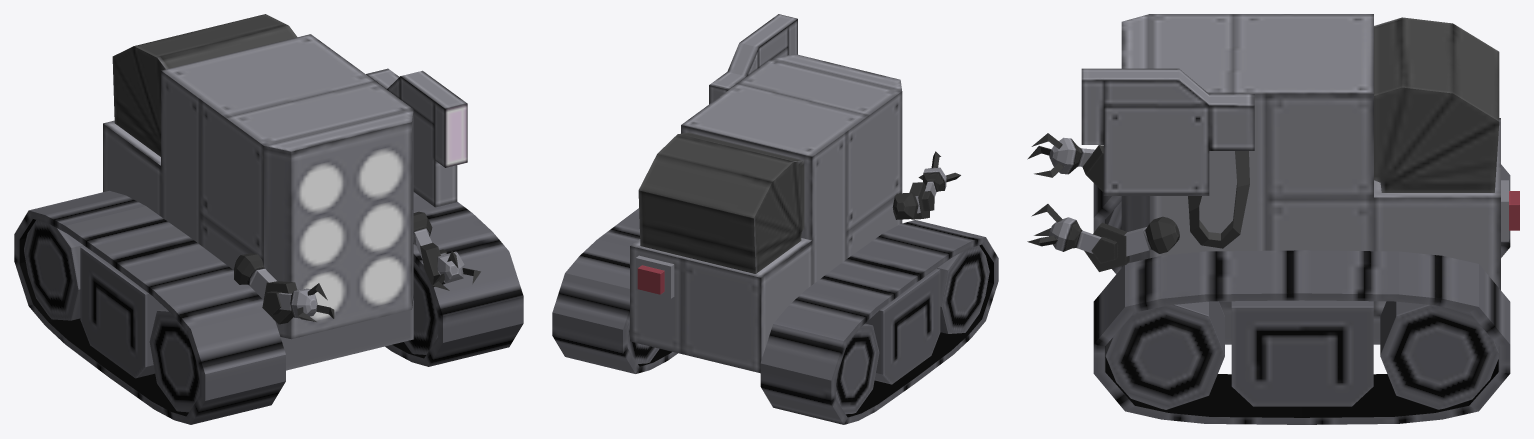
File: Player.fbx
3 views of the same model, side by side, from view 1: azimuth 30°, elevation 25°; view 2: azimuth 150°, elevation 25°; view 3: azimuth 270°, elevation 25° (orthographic). The views are drawn at different scales.
Parts seen in each view (by area): view 1: body, tracks; view 2: body, tracks; view 3: body, tracks.
Part boxes in pixels (x1,y1,x2,y2): body: (24,14,480,412); tracks: (14,190,523,424); body: (627,14,989,414); tracks: (552,208,998,424); body: (1027,14,1519,409); tracks: (1093,164,1510,424).
Size of the model in its own units: 1.28 by 1.09 by 1.57.
Materials: 2 (2 with a texture image).
